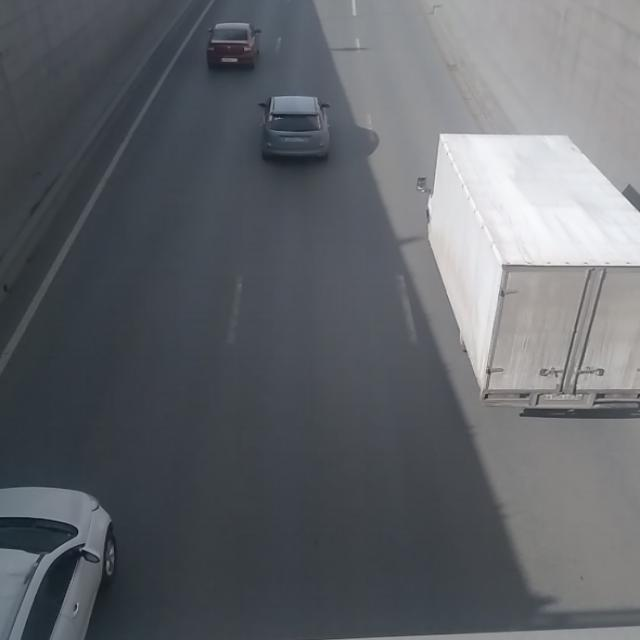car: (0, 488, 117, 640), (258, 96, 332, 160), (207, 21, 261, 70)
truck: (411, 136, 640, 412)
